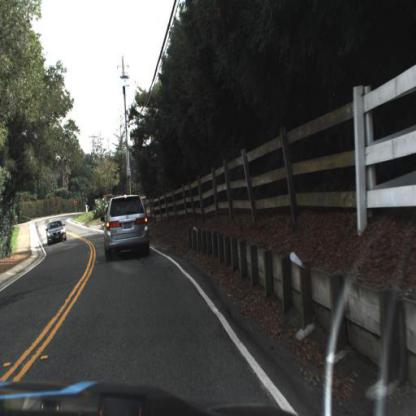car: (96, 181, 157, 273), (46, 213, 70, 251)
